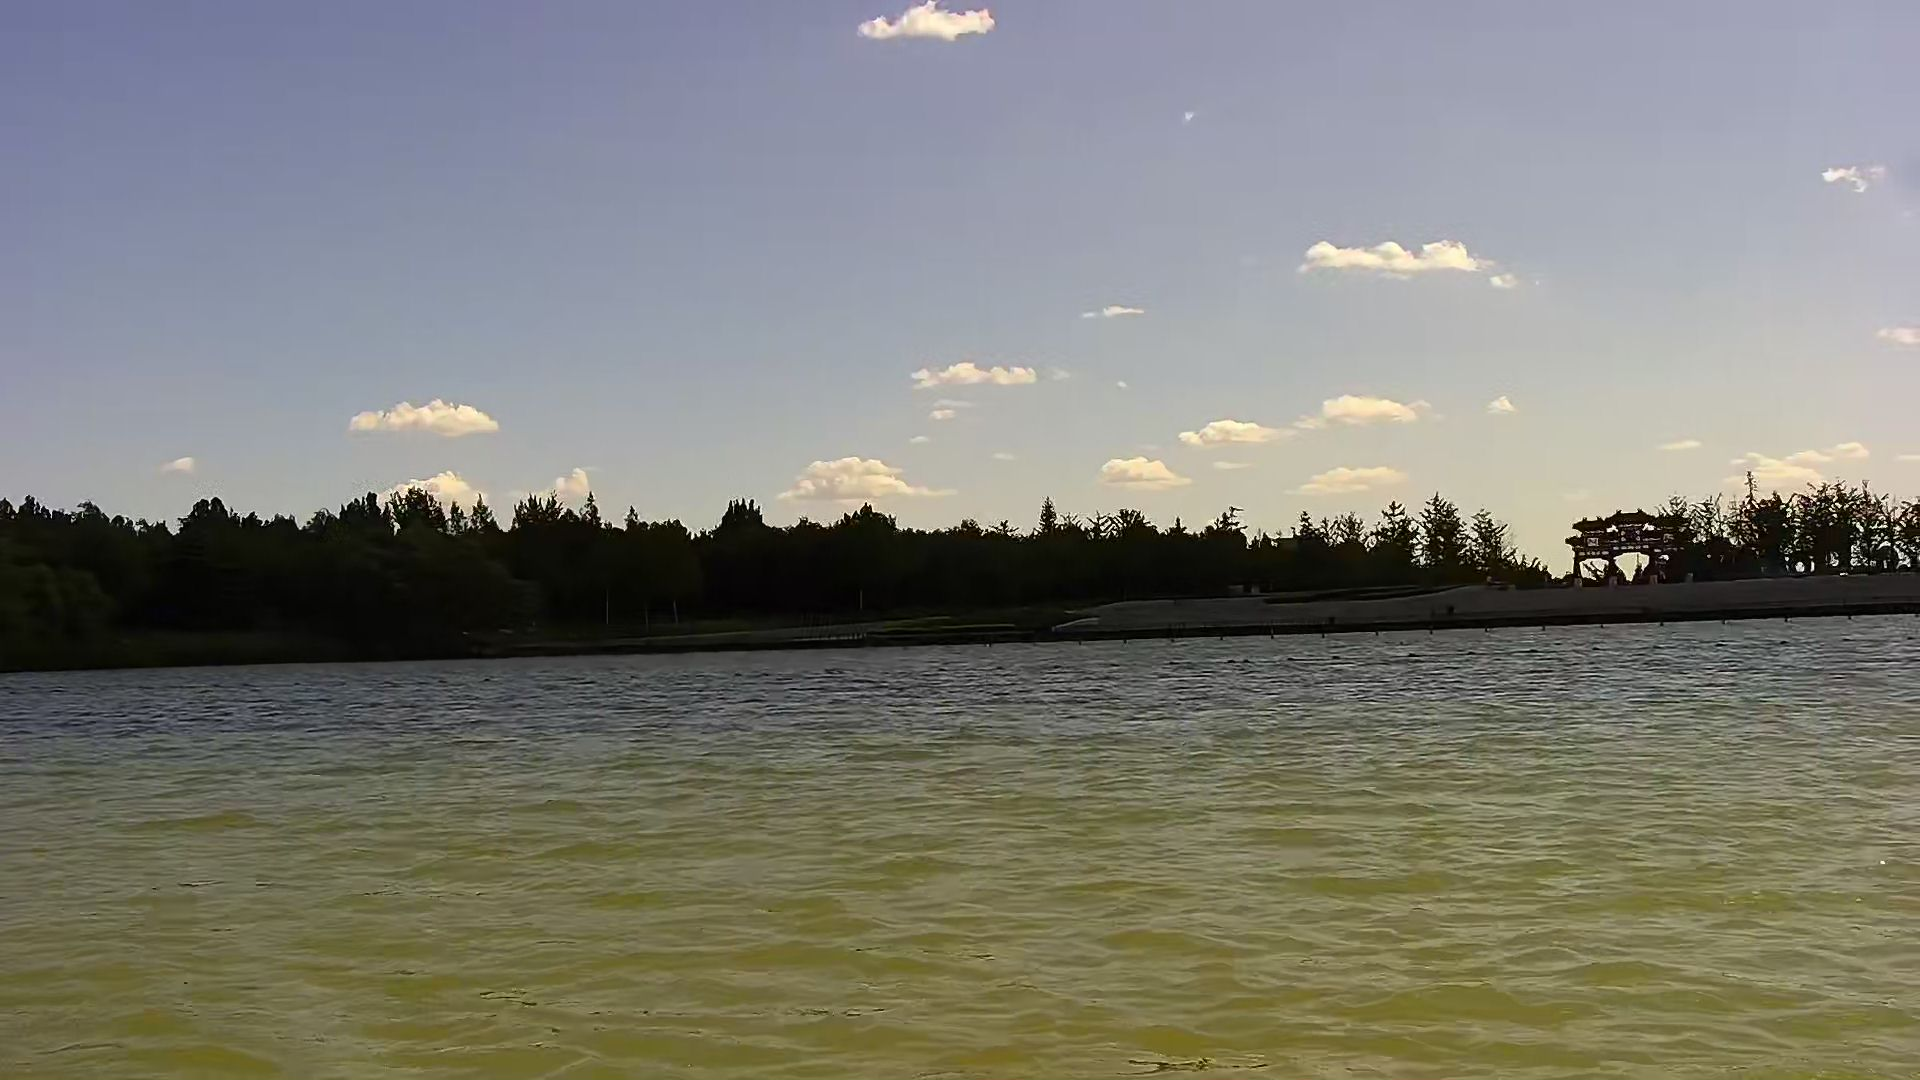harbor: (595, 574, 1920, 651)
